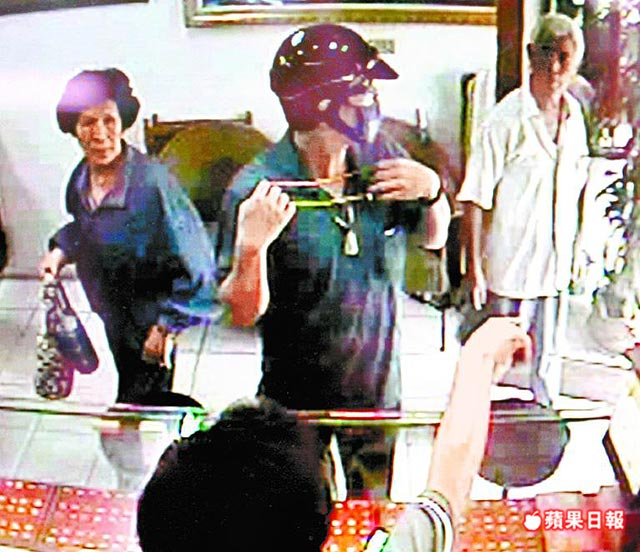helmet: (260, 37, 405, 118)
